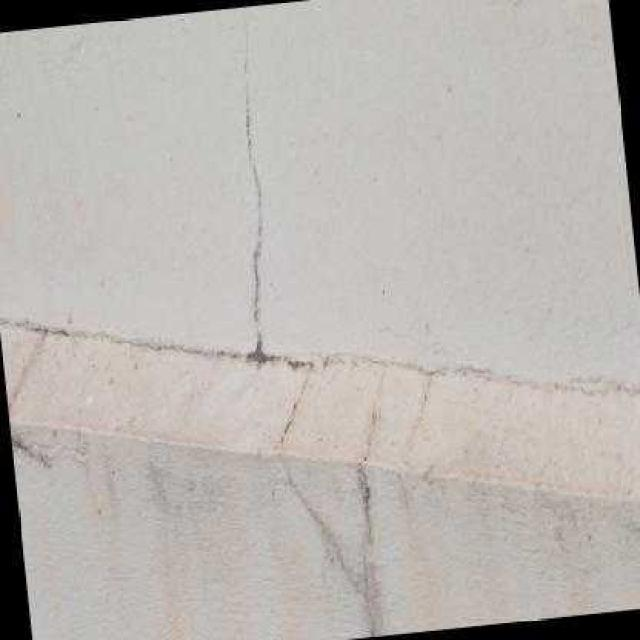D00: (239, 6, 267, 347)
